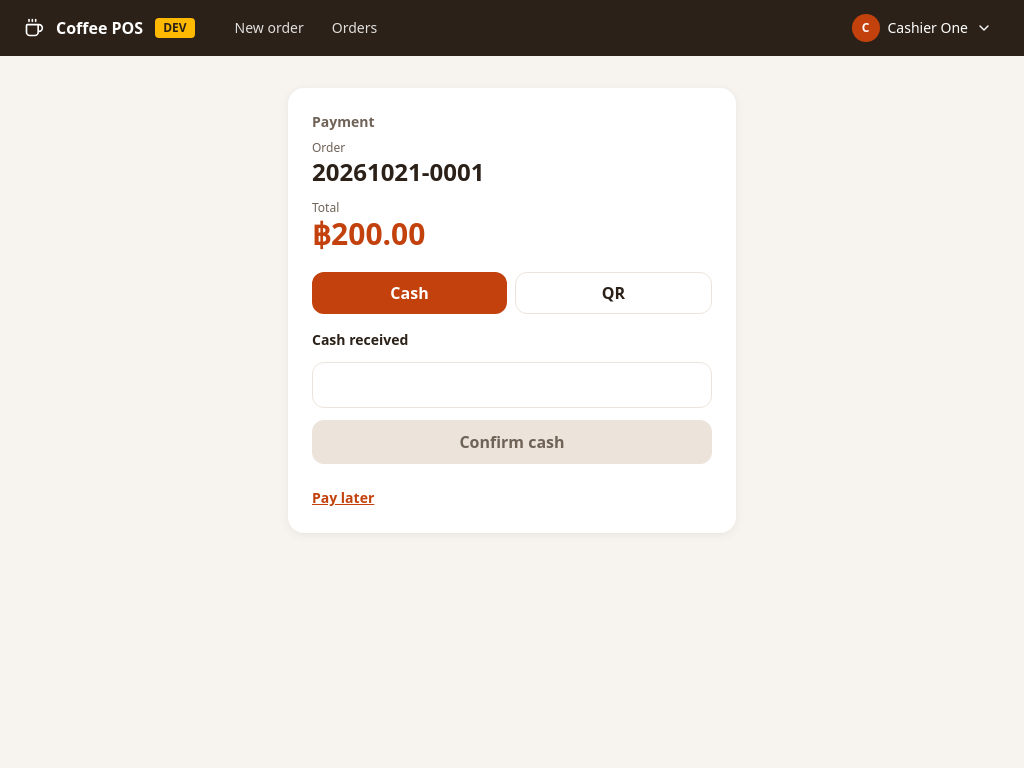
Test: PaymentPage › sends the cash payment with an Idempotency-Key, then shows the receipt
The width and height of the screenshot is (1024, 768).
Type "250" into the field labelled "Cash received" at (512, 385), box [312,362,712,408]
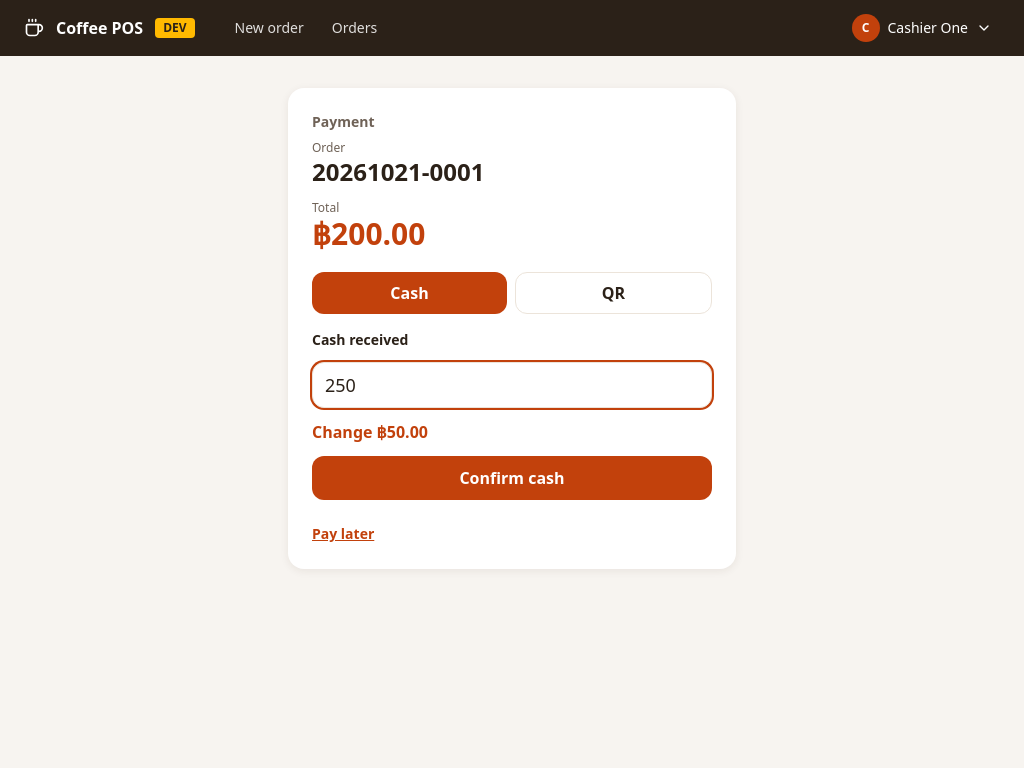
Click the button "Confirm cash" at (512, 478), box [312,456,712,500]
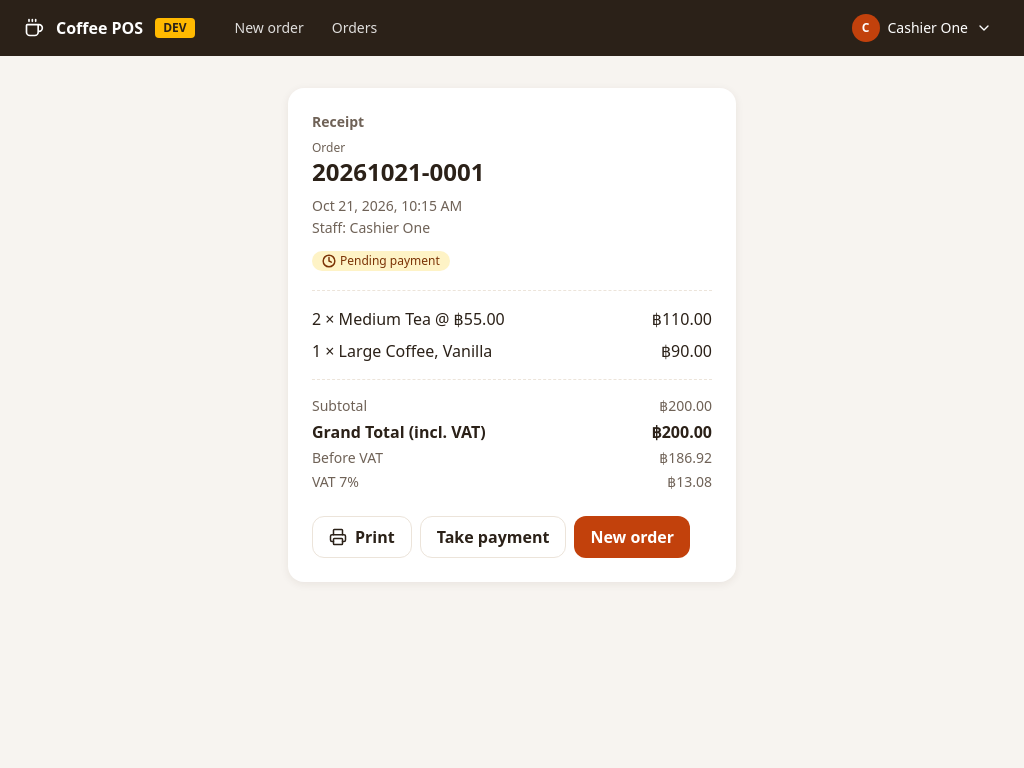
expect the text "Paid" is shown: met, box [312,251,450,271]
